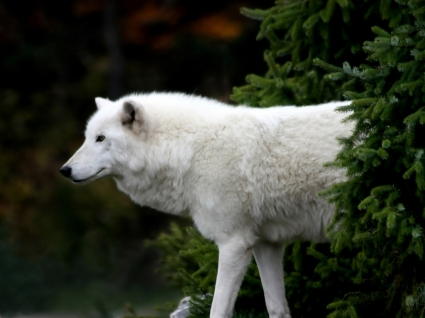Lobo: (46, 80, 354, 302)
